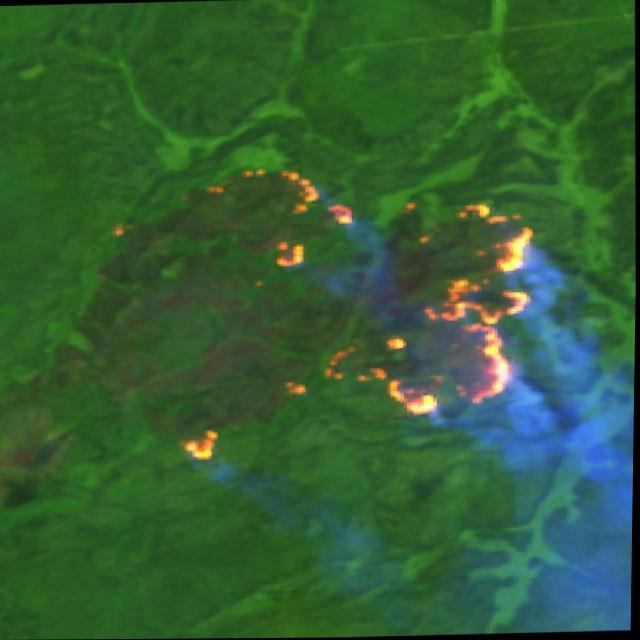fire: (167, 159, 549, 471)
